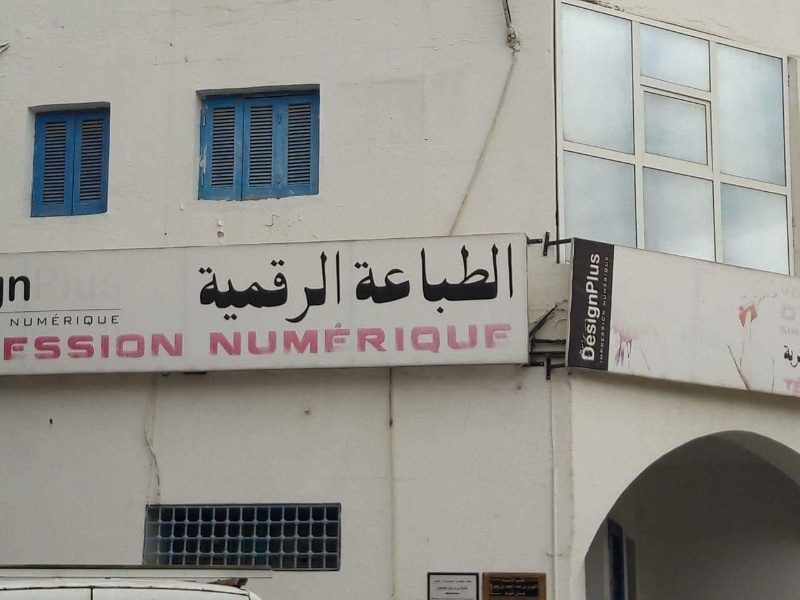text: (593, 249, 604, 364), (209, 250, 224, 325), (225, 250, 240, 325), (241, 250, 256, 325), (257, 250, 272, 325), (273, 250, 288, 325), (289, 250, 304, 325), (305, 250, 320, 325), (321, 250, 336, 325), (369, 242, 384, 316), (385, 242, 400, 316), (401, 242, 416, 316), (417, 242, 432, 316), (433, 242, 448, 316), (449, 242, 464, 316), (465, 242, 480, 316), (481, 242, 496, 316), (497, 242, 512, 316), (355, 242, 368, 316), (198, 250, 208, 325), (586, 249, 592, 364), (209, 320, 224, 361), (225, 320, 240, 361), (241, 320, 256, 361), (257, 320, 272, 361), (273, 320, 288, 361), (289, 320, 304, 361), (305, 320, 320, 361), (321, 320, 336, 361), (337, 320, 352, 361), (353, 320, 368, 361), (369, 320, 384, 361), (385, 320, 400, 361), (401, 320, 416, 361), (417, 320, 432, 361), (433, 320, 448, 361), (449, 320, 464, 361), (465, 320, 480, 361), (481, 320, 496, 361), (497, 320, 512, 361), (17, 331, 32, 363), (33, 331, 48, 363), (49, 331, 64, 363), (65, 331, 80, 363), (81, 331, 96, 363), (97, 331, 112, 363), (113, 331, 128, 363), (129, 331, 144, 363), (145, 331, 160, 363), (161, 331, 176, 363), (2, 331, 16, 363), (17, 275, 32, 303), (513, 320, 523, 361), (785, 342, 799, 370), (337, 250, 342, 325), (602, 308, 608, 365), (497, 578, 512, 598), (513, 578, 528, 598), (177, 331, 186, 363), (17, 311, 32, 329), (33, 311, 48, 329), (49, 311, 64, 329), (65, 311, 80, 329), (81, 311, 96, 329), (97, 311, 112, 329), (785, 377, 799, 396), (8, 275, 16, 303), (513, 242, 516, 316), (433, 578, 448, 592), (449, 578, 464, 592), (604, 256, 608, 307), (529, 578, 539, 598), (113, 311, 121, 329), (465, 578, 474, 592), (10, 311, 16, 329), (492, 578, 496, 598), (609, 256, 610, 307), (783, 342, 784, 370)
